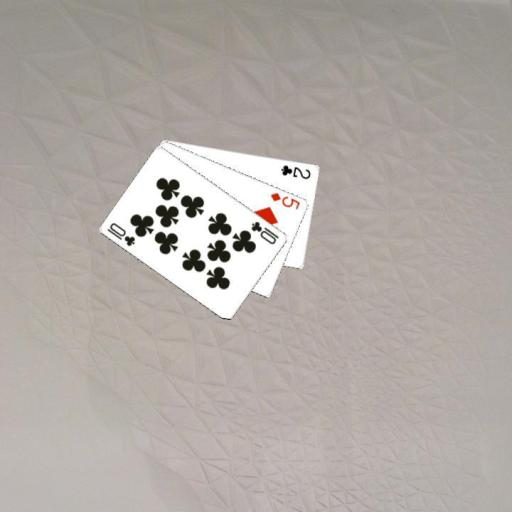10C: (248, 218, 281, 246), (104, 219, 137, 247)
2C: (278, 161, 312, 180)
5D: (268, 189, 302, 211)
